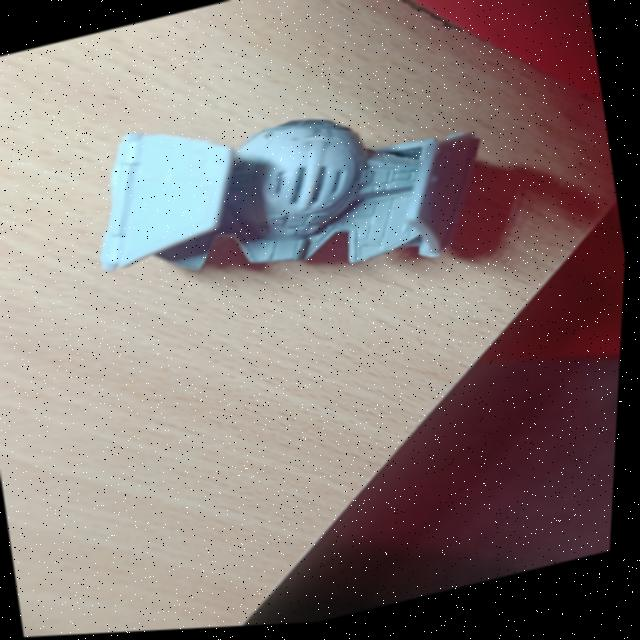tie fighter: (103, 123, 480, 271)
